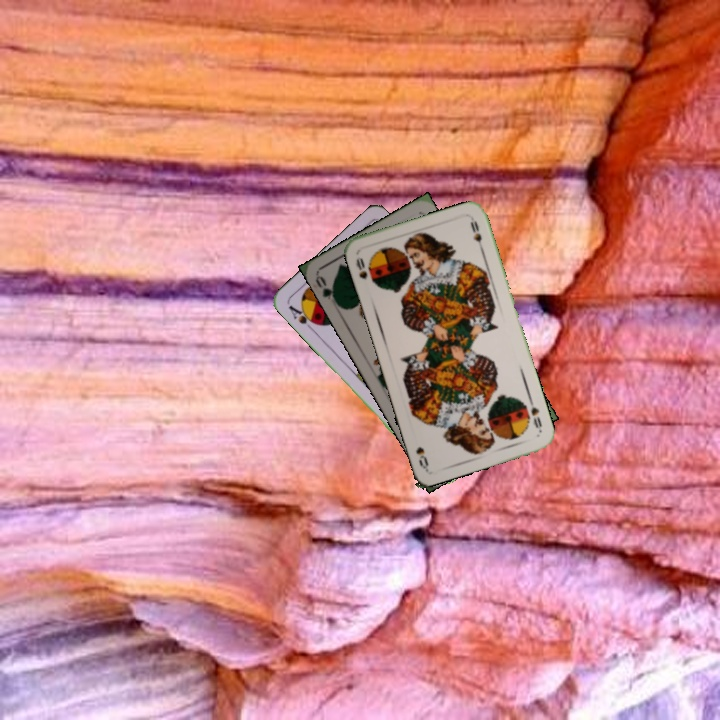GO: (311, 272, 341, 308)
SA: (284, 301, 320, 333)
SO: (525, 395, 544, 431), (352, 253, 370, 282)
